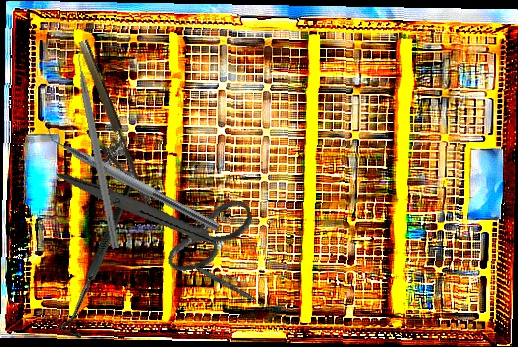Chopper: (33, 118, 228, 233), (72, 42, 131, 249)
Hook Surgical: (13, 176, 192, 345)
Iris Scissors: (57, 136, 260, 293)
Needle Holder: (55, 38, 153, 216)
Spatula Surgical: (179, 257, 273, 311)
